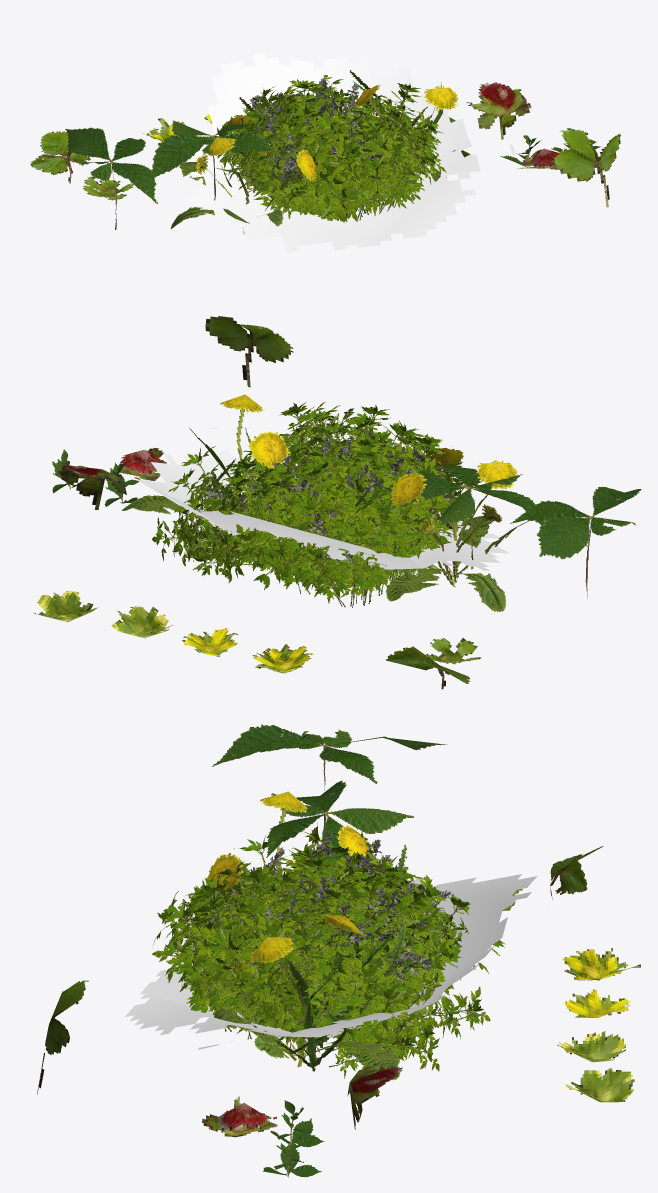
File: groundcover.glb
3 views of the same model, one above another, from view 1: azimuth 30°, elevation 25°; view 2: azimuth 150°, elevation 25°; view 3: azimuth 270°, elevation 25° (orthographic). The views are drawn at different scales.
Parts seen in each view (by area): view 1: groundcover-white-foliage, groundcover-patch-1-foliage (×4), groundcover-patch-2-foliage (×5), groundcover-clover-foliage, groundcover-leaves-foliage, groundcover-dandelion-foliage, groundcover-flowers-2-foliage, groundcover-flowers-1-foliage, groundcover-grass-foliage; view 2: groundcover-patch-1-foliage (×4), groundcover-patch-2-foliage (×5), groundcover-clover-foliage, groundcover-dandelion-foliage, groundcover-leaves-foliage, groundcover-white-foliage, groundcover-flowers-2-foliage, groundcover-grass-foliage, groundcover-flowers-1-foliage; view 3: groundcover-patch-1-foliage (×4), groundcover-patch-2-foliage (×5), groundcover-clover-foliage, groundcover-white-foliage, groundcover-leaves-foliage, groundcover-dandelion-foliage, groundcover-flowers-2-foliage, groundcover-grass-foliage, groundcover-flowers-1-foliage.
Boxes of the visible parts, left/top/right/bottom form: groundcover-white-foliage: left=188, top=53, right=516, bottom=253; groundcover-patch-1-foliage (×4): left=207, top=75, right=446, bottom=222; groundcover-patch-2-foliage (×5): left=221, top=92, right=440, bottom=220; groundcover-clover-foliage: left=30, top=82, right=620, bottom=207; groundcover-leaves-foliage: left=65, top=120, right=601, bottom=229; groundcover-dandelion-foliage: left=170, top=85, right=470, bottom=234; groundcover-flowers-2-foliage: left=250, top=79, right=381, bottom=189; groundcover-flowers-1-foliage: left=258, top=95, right=366, bottom=184; groundcover-grass-foliage: left=216, top=70, right=442, bottom=197; groundcover-patch-1-foliage (×4): left=152, top=402, right=462, bottom=594; groundcover-patch-2-foliage (×5): left=187, top=426, right=479, bottom=607; groundcover-clover-foliage: left=34, top=316, right=481, bottom=689; groundcover-dandelion-foliage: left=121, top=394, right=529, bottom=612; groundcover-leaves-foliage: left=52, top=449, right=641, bottom=598; groundcover-white-foliage: left=134, top=427, right=509, bottom=570; groundcover-flowers-2-foliage: left=205, top=434, right=448, bottom=578; groundcover-grass-foliage: left=189, top=427, right=465, bottom=574; groundcover-flowers-1-foliage: left=221, top=429, right=425, bottom=518; groundcover-patch-1-foliage (×4): left=152, top=830, right=505, bottom=1078; groundcover-patch-2-foliage (×5): left=187, top=843, right=453, bottom=1058; groundcover-clover-foliage: left=37, top=846, right=640, bottom=1137; groundcover-white-foliage: left=125, top=874, right=537, bottom=1049; groundcover-leaves-foliage: left=211, top=724, right=446, bottom=1177; groundcover-dandelion-foliage: left=206, top=791, right=400, bottom=1080; groundcover-flowers-2-foliage: left=206, top=833, right=450, bottom=990; groundcover-grass-foliage: left=253, top=844, right=407, bottom=1071; groundcover-flowers-1-foliage: left=233, top=844, right=423, bottom=1003.
Bounding box in the file's own units: 4.75 × 1 × 3.78.
Materials: 7 (7 with a texture image).
